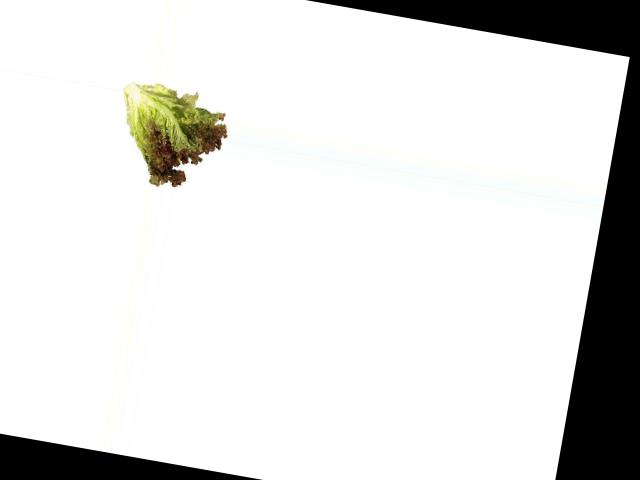lettuce: (110, 80, 234, 195)
